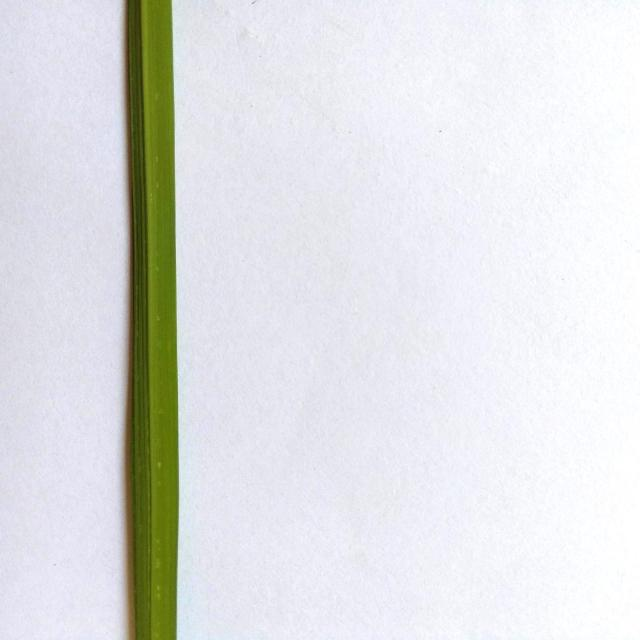healthy: (103, 2, 208, 640)
